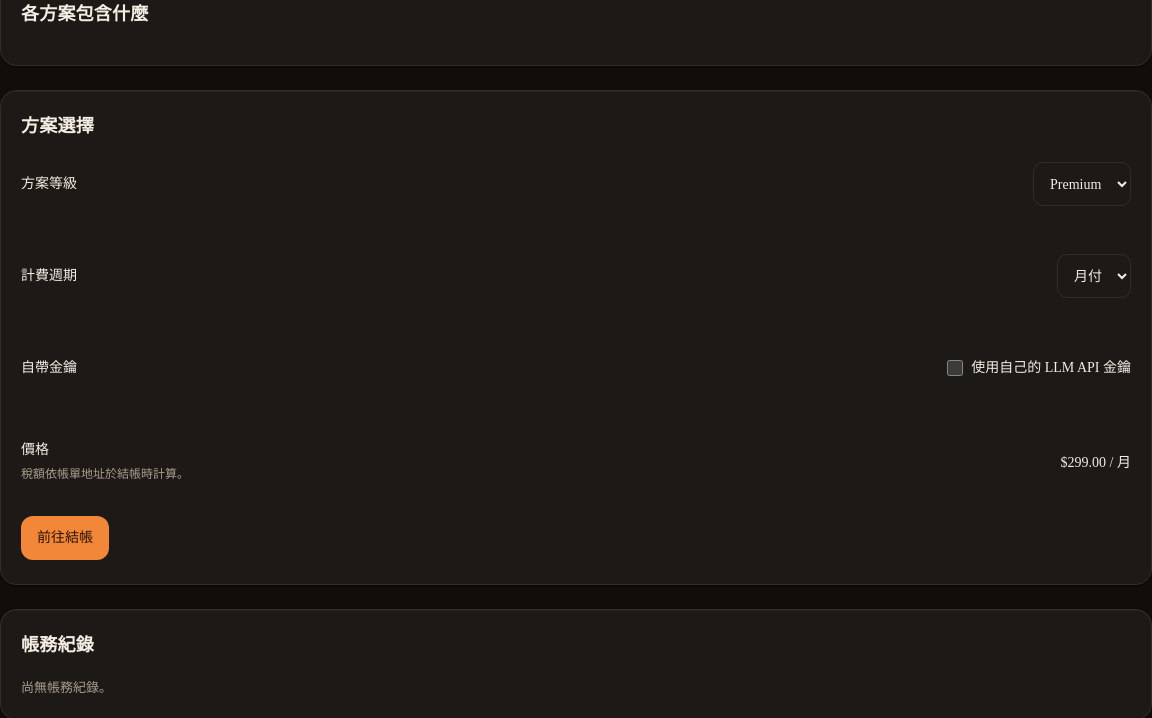
BillingPanel actions › maps the checkout error code billing_unconfigured
The width and height of the screenshot is (1152, 718).
(page scrolled)
Click the button "前往結帳" at (65, 538), box [21,516,109,560]
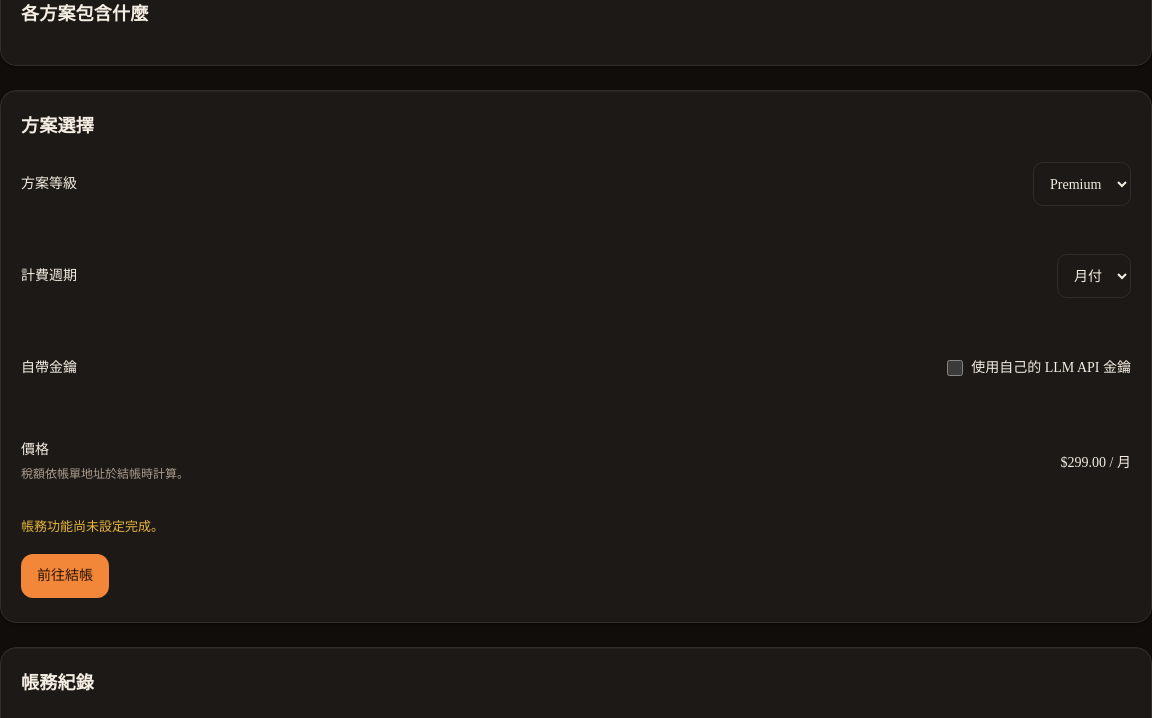
Expected: the message reads "帳務功能尚未設定完成。", [21,519,164,534]
